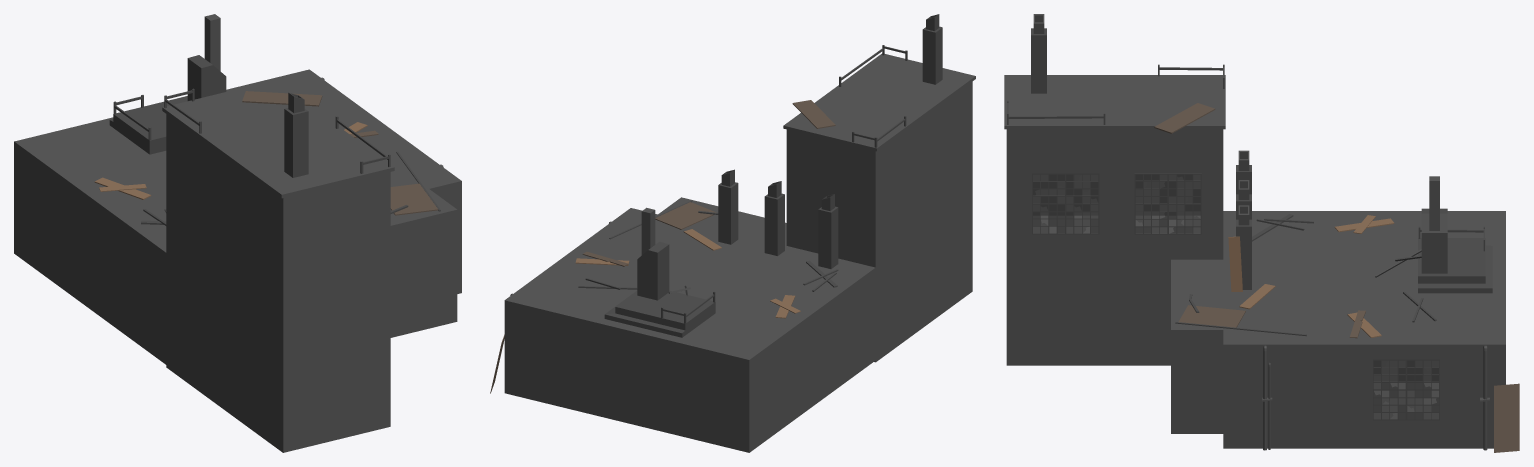
The model's file is Blocos.fbx.
3 renders of one model, left to right at view 1: azimuth 30°, elevation 25°; view 2: azimuth 150°, elevation 25°; view 3: azimuth 270°, elevation 25°, orthographic. The views are drawn at different scales.
Visible parts, largest first — view 1: Blocos; view 2: Blocos; view 3: Blocos.
Part boxes in pixels (bbox=[...]): Blocos: bbox=[14, 14, 461, 452]; Blocos: bbox=[490, 14, 975, 452]; Blocos: bbox=[1004, 14, 1519, 452].
Size of the model in its own units: 1710 by 1750 by 2599.
